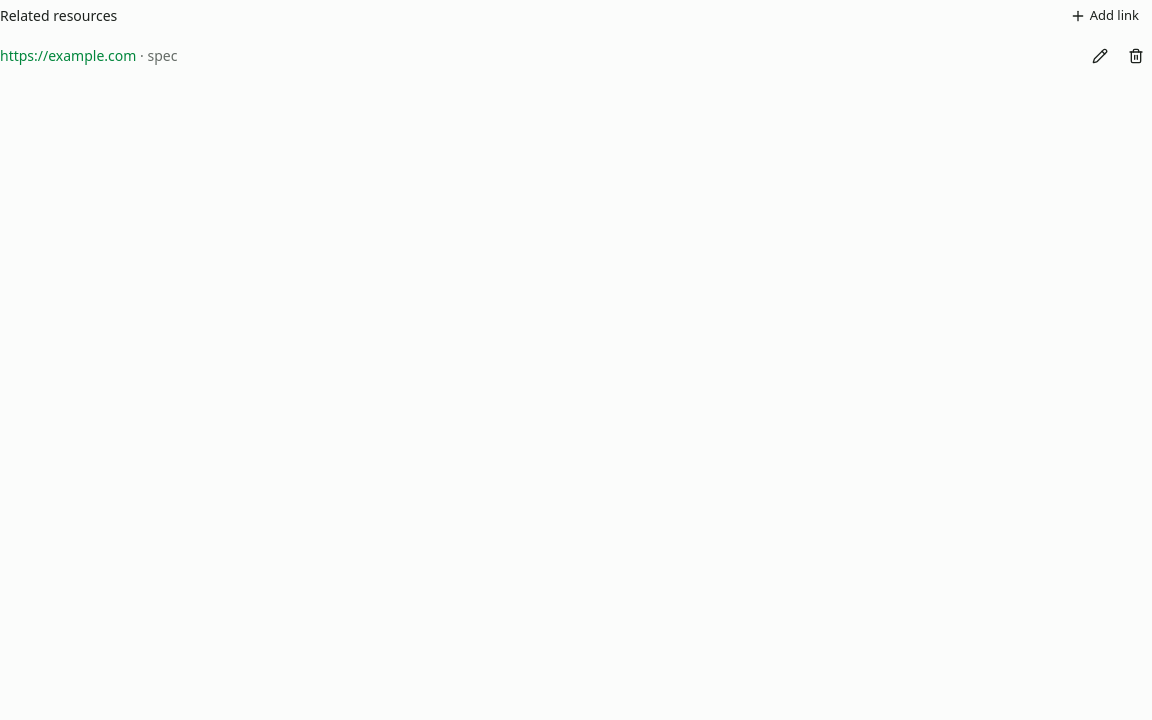
Test: TaskLinksEditor › uses an English success toast and a ghost add control when links exist
Click the button "Add link" at {"x": 1104, "y": 16}, box left=1057, top=0, right=1151, bottom=32
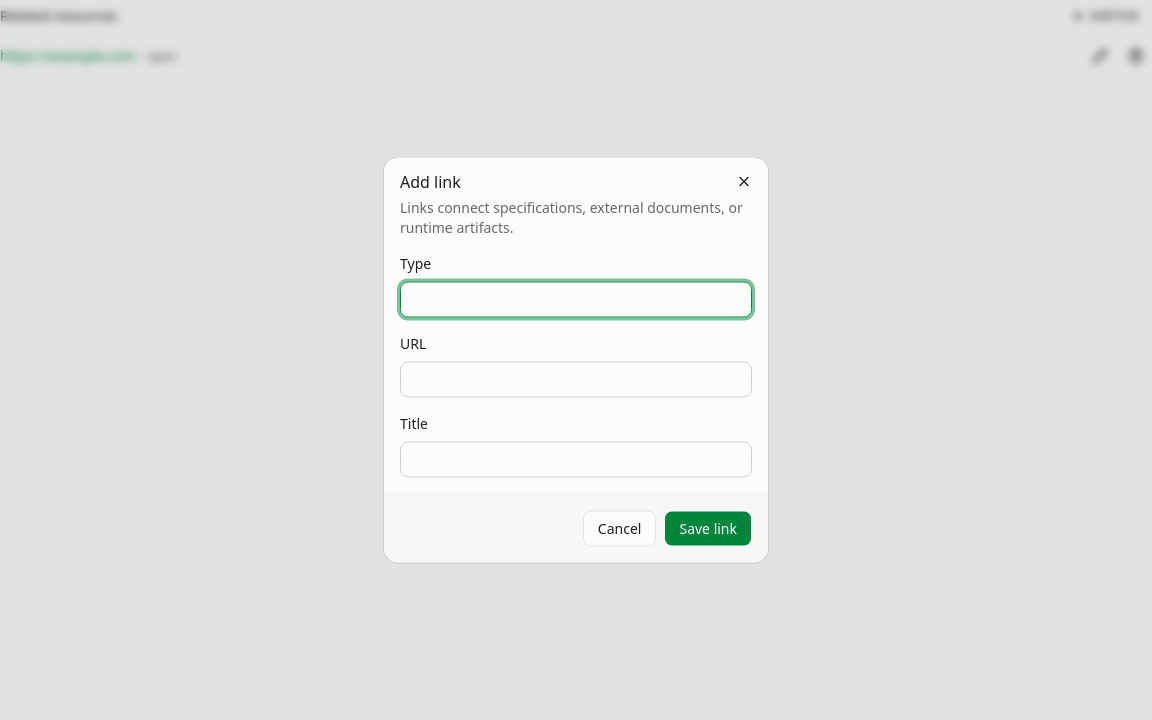
Type "spec" into the field labelled "Type" at {"x": 576, "y": 300}, box left=400, top=282, right=752, bottom=318
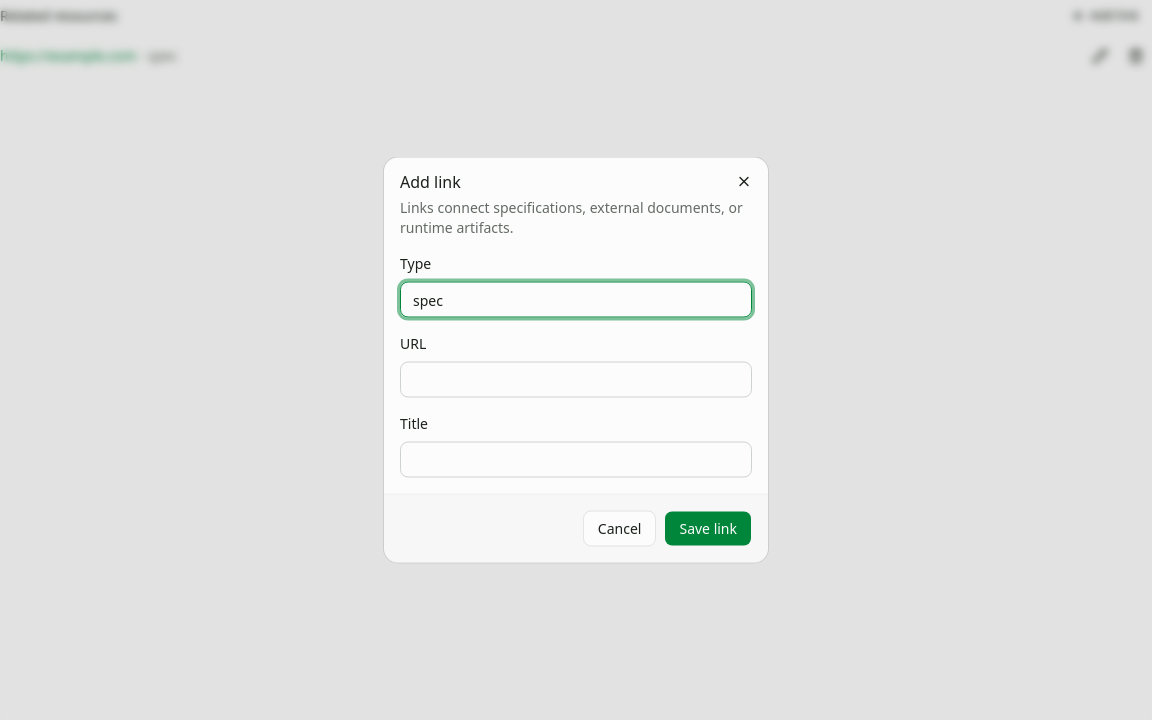
Type "https://example.com/new" into the field labelled "URL" at {"x": 576, "y": 380}, box left=400, top=362, right=752, bottom=398
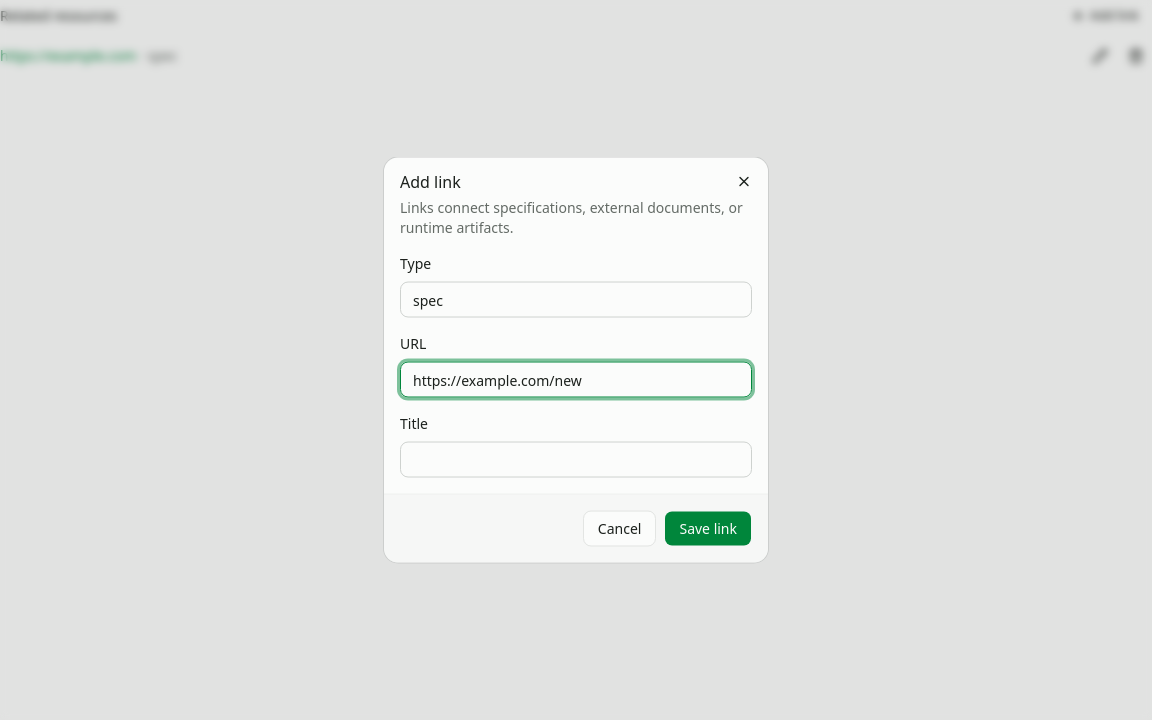
Click the button "Save link" at {"x": 708, "y": 528}, box left=664, top=510, right=752, bottom=546
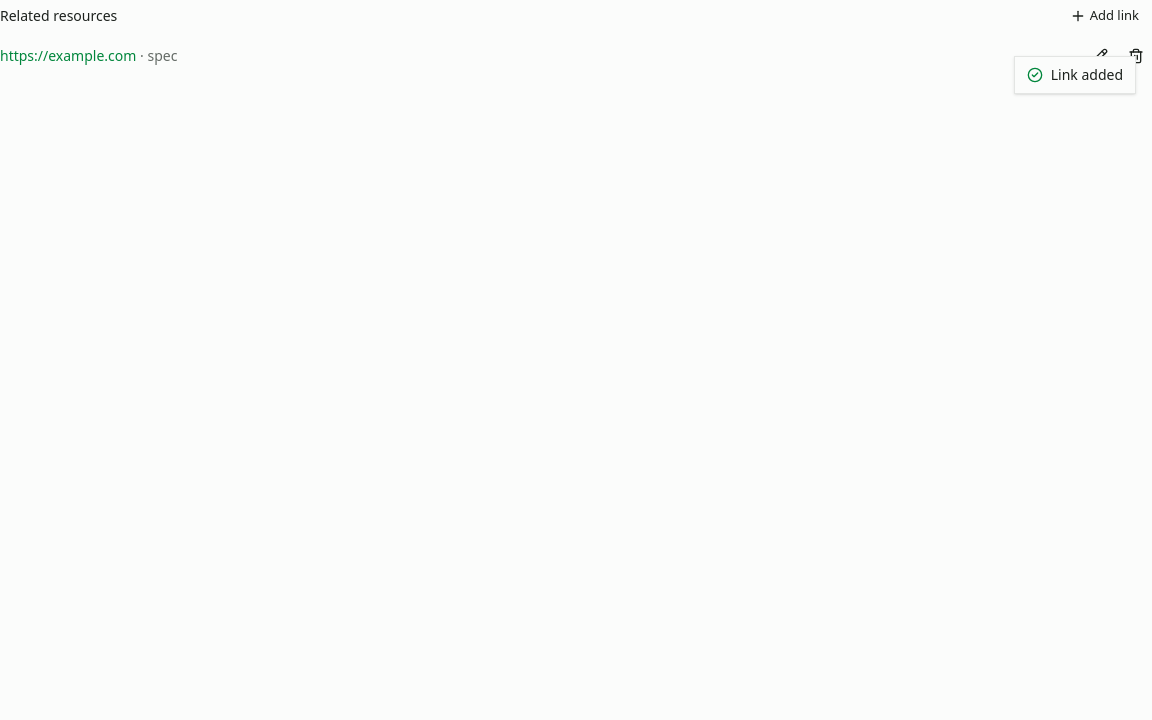
Expected: the message reads "Link added", left=1051, top=65, right=1123, bottom=84
